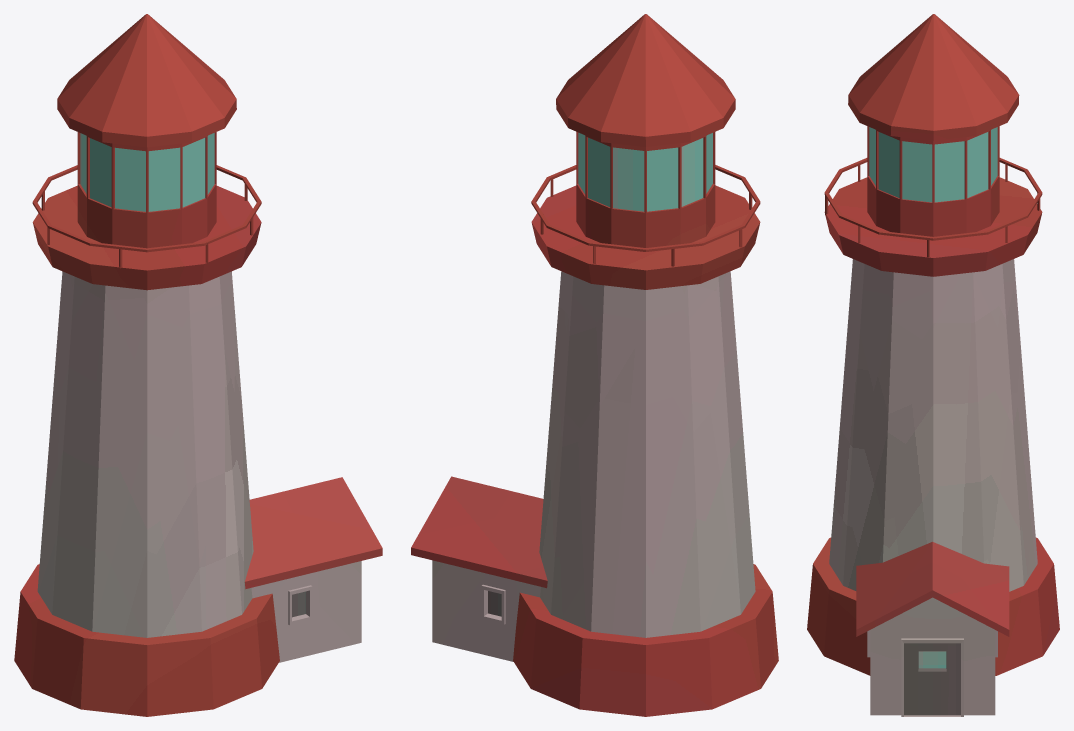
File: CHAHIN_LIGHTHOUSE.gltf
3 views of the same model, side by side, from view 1: azimuth 30°, elevation 25°; view 2: azimuth 150°, elevation 25°; view 3: azimuth 270°, elevation 25° (orthographic). The views are drawn at different scales.
Parts seen in each view (by area): view 1: node-0; view 2: node-0; view 3: node-0.
Boxes of the visible parts, left/top/right/bottom form: node-0: left=14, top=14, right=382, bottom=716; node-0: left=411, top=14, right=778, bottom=716; node-0: left=807, top=14, right=1059, bottom=716.
Bounding box in the file's own units: 12.49 × 24.94 × 9.27.
Materials: 1 (1 with a texture image).
